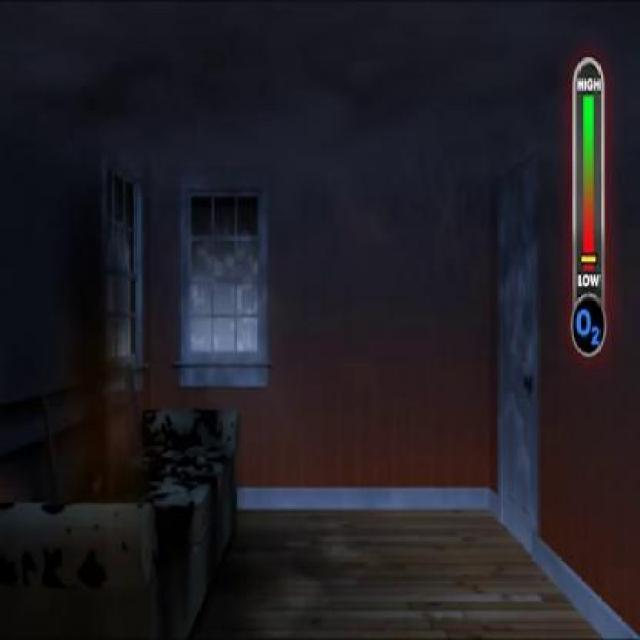smoke: (18, 41, 154, 432), (308, 34, 510, 274)
